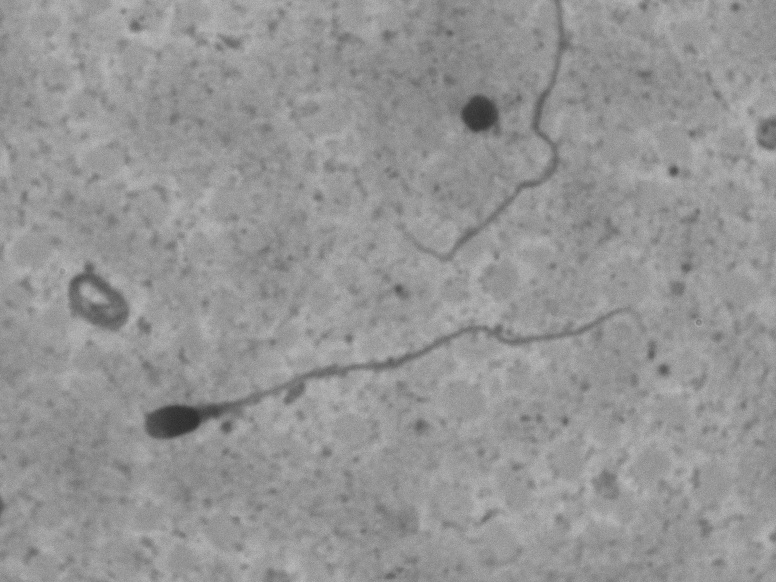Normal: (142, 284, 658, 475)
